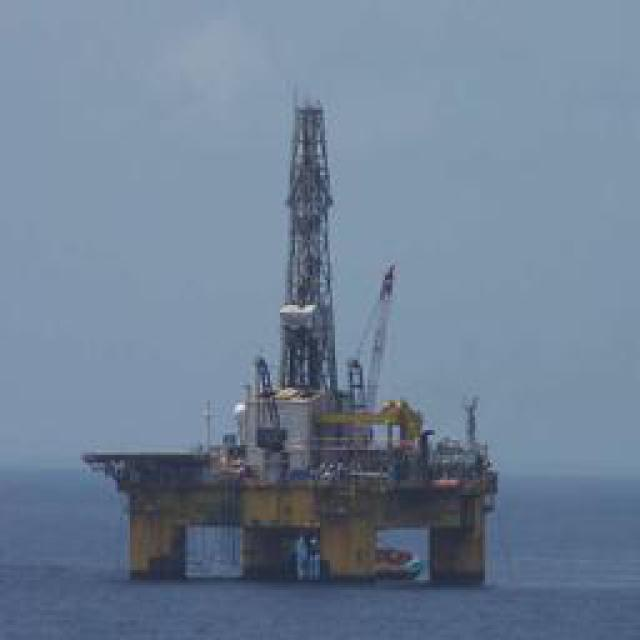Ship: (84, 220, 499, 593)
